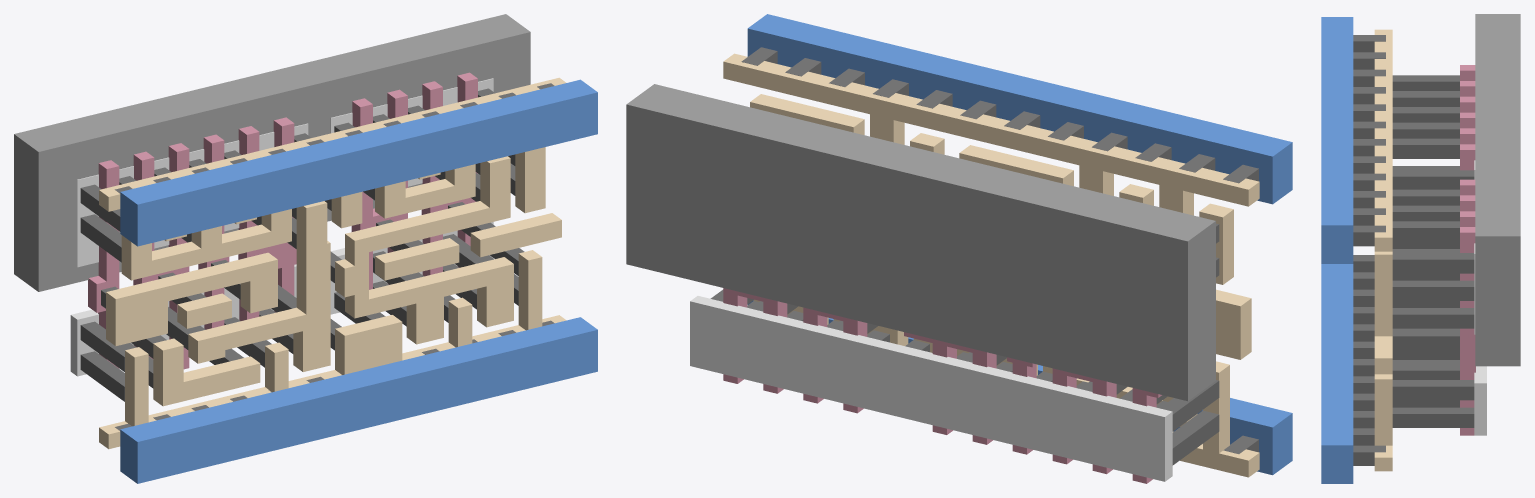
File: sky130_fd_sc_hd__a2bb2oi_2.gds.gltf
3 renders of one model, left to right at view 1: azimuth 30°, elevation 25°; view 2: azimuth 150°, elevation 25°; view 3: azimuth 270°, elevation 25°, orthographic. The views are drawn at different scales.
Parts seen in each view (by area): view 1: sky130_fd_sc_hd__a2bb2oi_2_li1, sky130_fd_sc_hd__a2bb2oi_2_met1, sky130_fd_sc_hd__a2bb2oi_2_nwell, sky130_fd_sc_hd__a2bb2oi_2_licon, sky130_fd_sc_hd__a2bb2oi_2_poly, sky130_fd_sc_hd__a2bb2oi_2_diff, sky130_fd_sc_hd__a2bb2oi_2_mcon; view 2: sky130_fd_sc_hd__a2bb2oi_2_nwell, sky130_fd_sc_hd__a2bb2oi_2_diff, sky130_fd_sc_hd__a2bb2oi_2_li1, sky130_fd_sc_hd__a2bb2oi_2_met1, sky130_fd_sc_hd__a2bb2oi_2_mcon, sky130_fd_sc_hd__a2bb2oi_2_poly, sky130_fd_sc_hd__a2bb2oi_2_licon; view 3: sky130_fd_sc_hd__a2bb2oi_2_licon, sky130_fd_sc_hd__a2bb2oi_2_nwell, sky130_fd_sc_hd__a2bb2oi_2_met1, sky130_fd_sc_hd__a2bb2oi_2_mcon, sky130_fd_sc_hd__a2bb2oi_2_li1, sky130_fd_sc_hd__a2bb2oi_2_poly, sky130_fd_sc_hd__a2bb2oi_2_diff.
Boxes of the visible parts, x1=… form: sky130_fd_sc_hd__a2bb2oi_2_li1: x1=99, y1=77, x2=566, y2=449; sky130_fd_sc_hd__a2bb2oi_2_met1: x1=120, y1=79, x2=597, y2=483; sky130_fd_sc_hd__a2bb2oi_2_nwell: x1=14, y1=14, x2=530, y2=291; sky130_fd_sc_hd__a2bb2oi_2_licon: x1=80, y1=88, x2=524, y2=401; sky130_fd_sc_hd__a2bb2oi_2_poly: x1=88, y1=72, x2=477, y2=369; sky130_fd_sc_hd__a2bb2oi_2_diff: x1=70, y1=78, x2=493, y2=376; sky130_fd_sc_hd__a2bb2oi_2_mcon: x1=115, y1=83, x2=554, y2=430; sky130_fd_sc_hd__a2bb2oi_2_nwell: x1=626, y1=84, x2=1215, y2=401; sky130_fd_sc_hd__a2bb2oi_2_diff: x1=690, y1=296, x2=1172, y2=481; sky130_fd_sc_hd__a2bb2oi_2_li1: x1=723, y1=53, x2=1259, y2=477; sky130_fd_sc_hd__a2bb2oi_2_met1: x1=747, y1=14, x2=1292, y2=475; sky130_fd_sc_hd__a2bb2oi_2_mcon: x1=741, y1=47, x2=1258, y2=453; sky130_fd_sc_hd__a2bb2oi_2_poly: x1=723, y1=288, x2=1161, y2=483; sky130_fd_sc_hd__a2bb2oi_2_licon: x1=710, y1=223, x2=1219, y2=465; sky130_fd_sc_hd__a2bb2oi_2_licon: x1=1392, y1=75, x2=1474, y2=427; sky130_fd_sc_hd__a2bb2oi_2_nwell: x1=1475, y1=14, x2=1520, y2=366; sky130_fd_sc_hd__a2bb2oi_2_met1: x1=1321, y1=17, x2=1353, y2=483; sky130_fd_sc_hd__a2bb2oi_2_mcon: x1=1353, y1=35, x2=1385, y2=465; sky130_fd_sc_hd__a2bb2oi_2_li1: x1=1374, y1=29, x2=1392, y2=471; sky130_fd_sc_hd__a2bb2oi_2_poly: x1=1460, y1=65, x2=1475, y2=435; sky130_fd_sc_hd__a2bb2oi_2_diff: x1=1474, y1=160, x2=1486, y2=435.
Bounding box in the file's own units: 5.9 × 3.2 × 2.24.
